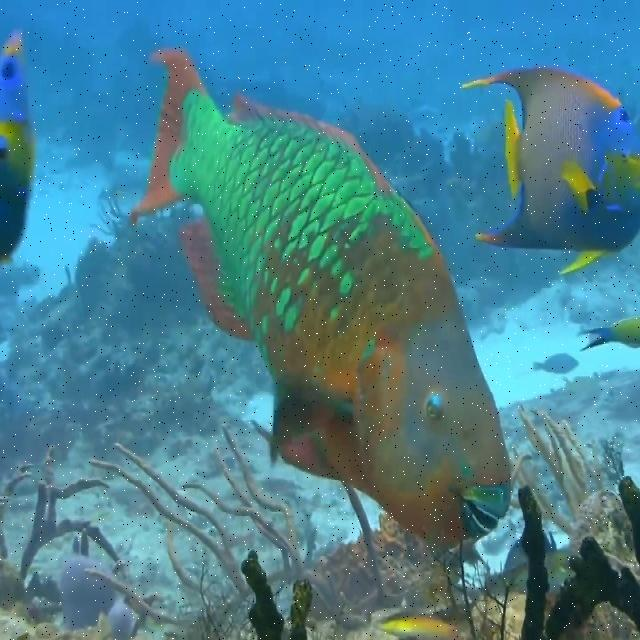fish: (130, 47, 512, 549), (462, 66, 639, 276), (0, 30, 35, 264), (579, 318, 639, 353), (377, 616, 462, 639), (533, 355, 579, 375)
reefs: (90, 441, 249, 594), (512, 406, 637, 563), (183, 428, 305, 573), (20, 442, 130, 581), (548, 532, 638, 635), (85, 570, 198, 638), (518, 485, 550, 638), (240, 549, 285, 639), (290, 581, 313, 639)
